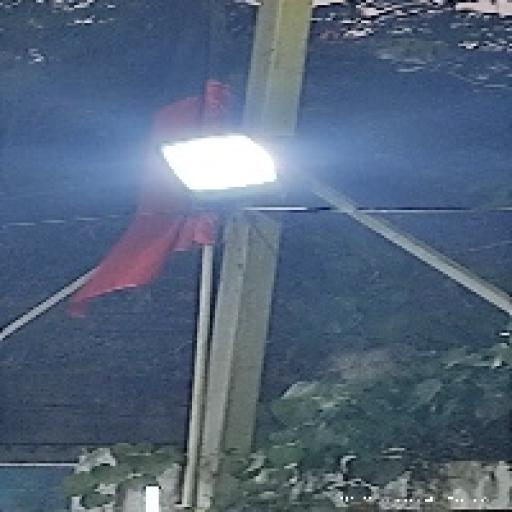Working: (148, 118, 295, 225)
